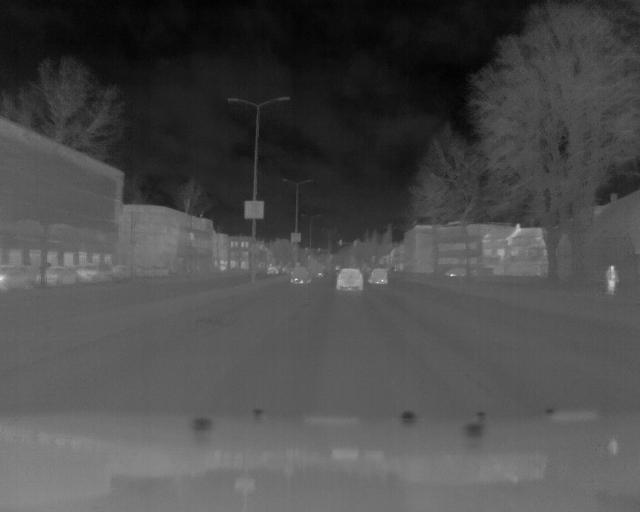car: (333, 266, 365, 291), (370, 267, 390, 287)
person: (604, 262, 621, 298)
